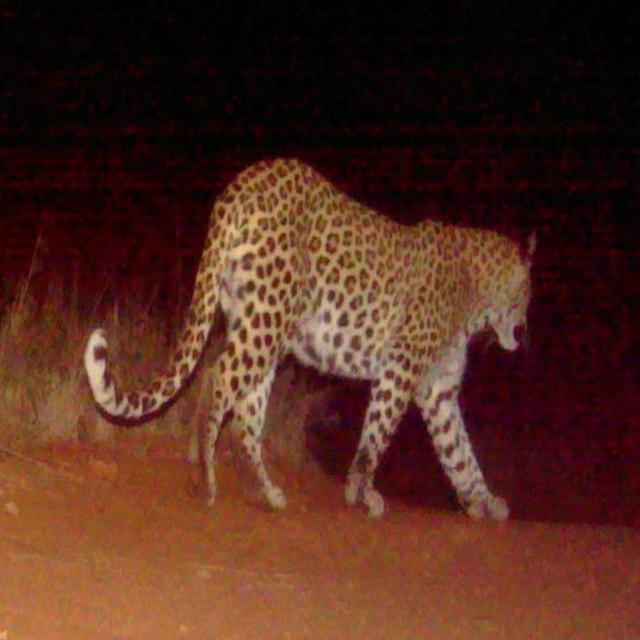Leopard: (86, 185, 570, 539)
